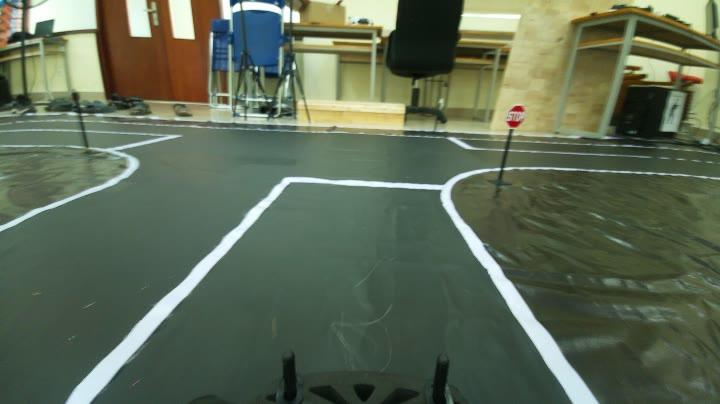stop: (503, 99, 532, 133)
